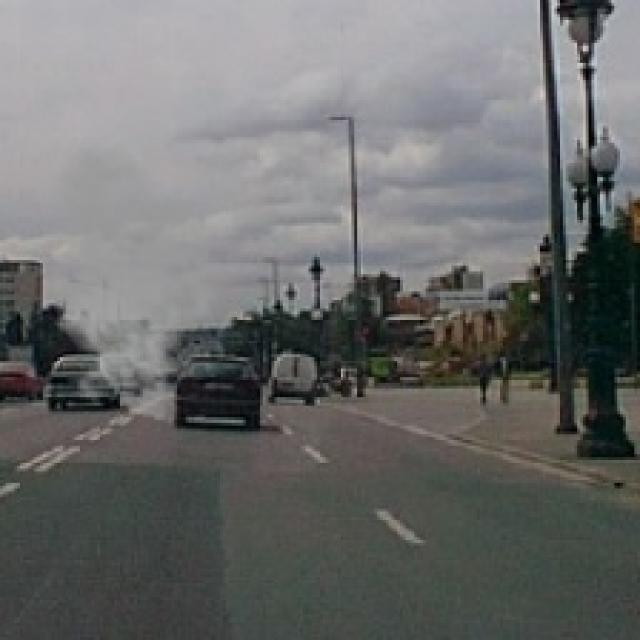smoke: (23, 143, 226, 423)
